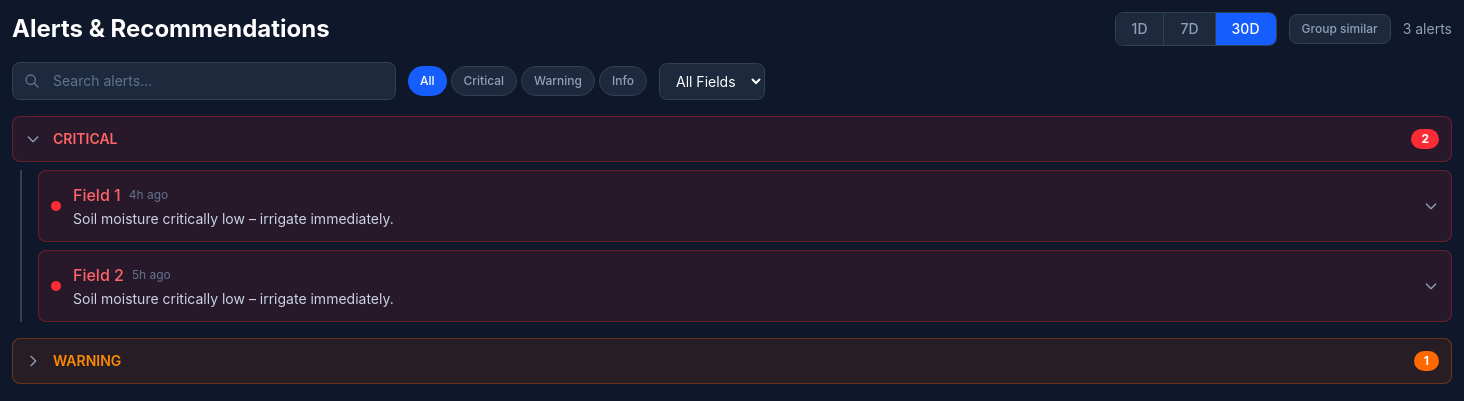
Scenario: AlertsList (v2.1 – Phase 6) › switching to 1D shows only today's 2 alerts
The image size is (1464, 401).
Check: the text "3 alerts" is shown, box [1403,19,1452,39]
Click the button "1D": x=1140, y=29 [1116,13,1164,45]
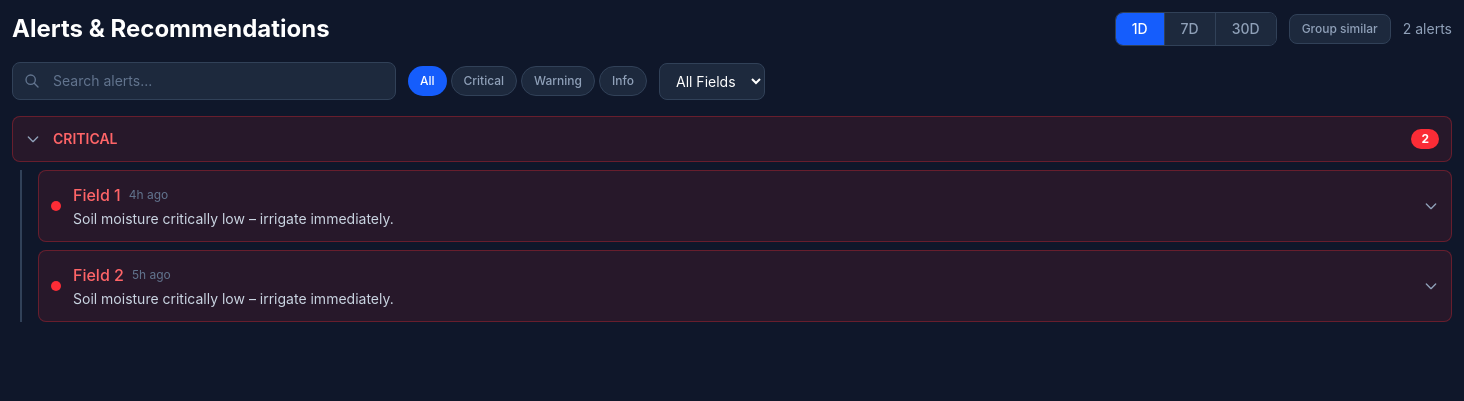
Check: the text "2 alerts" is shown, box [1403,19,1452,39]
